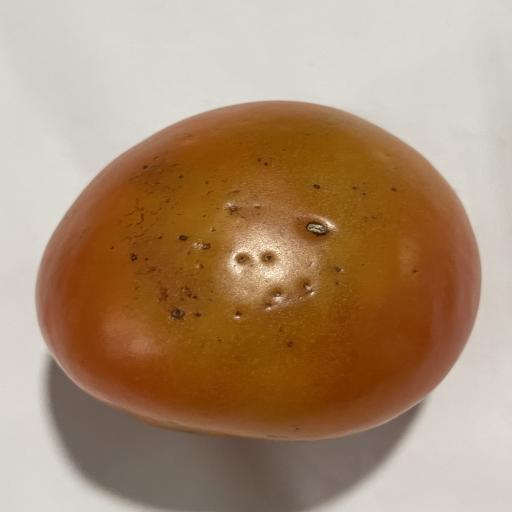unripe: (39, 102, 479, 441)
